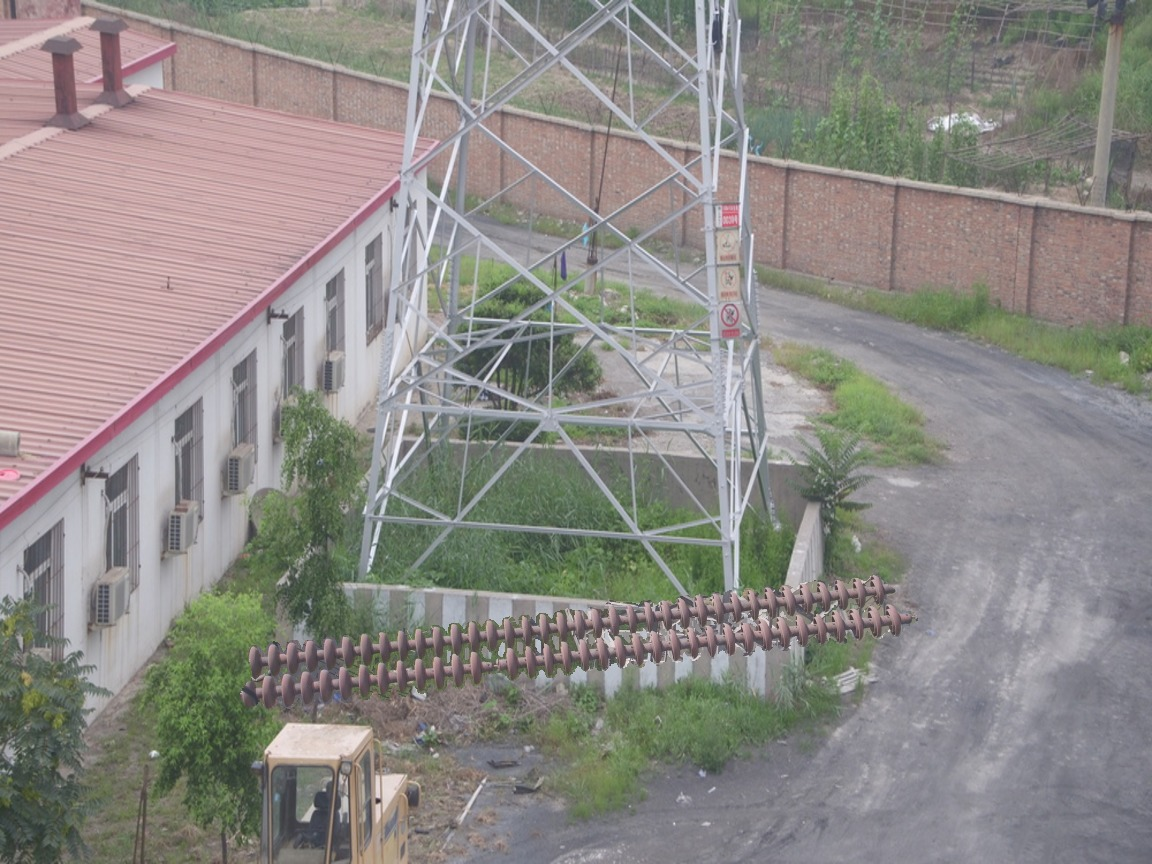defect: (460, 645, 525, 685)
